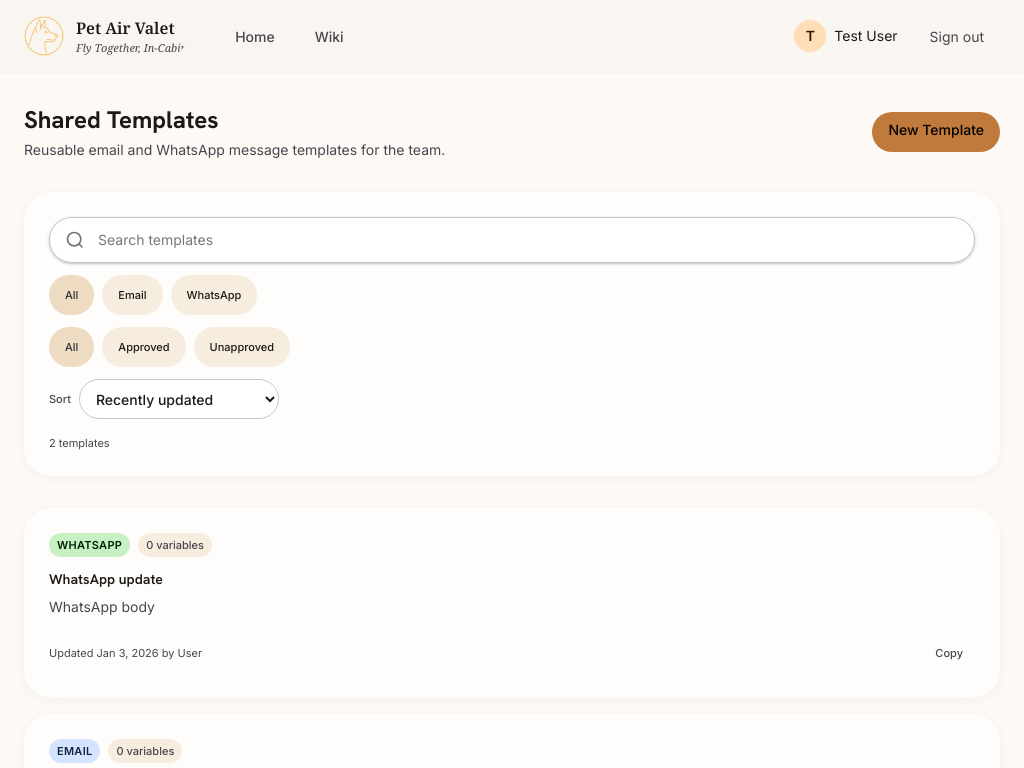
Test case: TemplatesPage › syncs search/filter/sort to URL and can clear filtered-empty state
In the search field with placeholder "Search templates": (512, 240) [49,217,975,263], type "nohits"
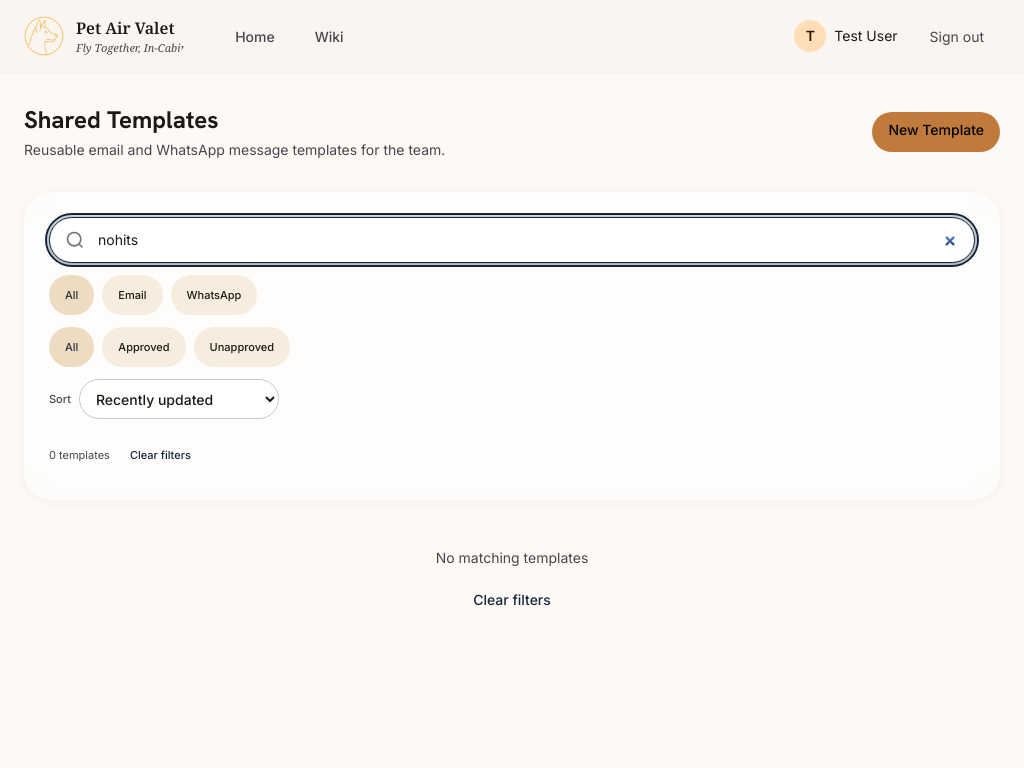
Result: the text "No matching templates" is shown at [436,549,588,566]
Click the button "Email": (132, 295) [102,275,162,315]
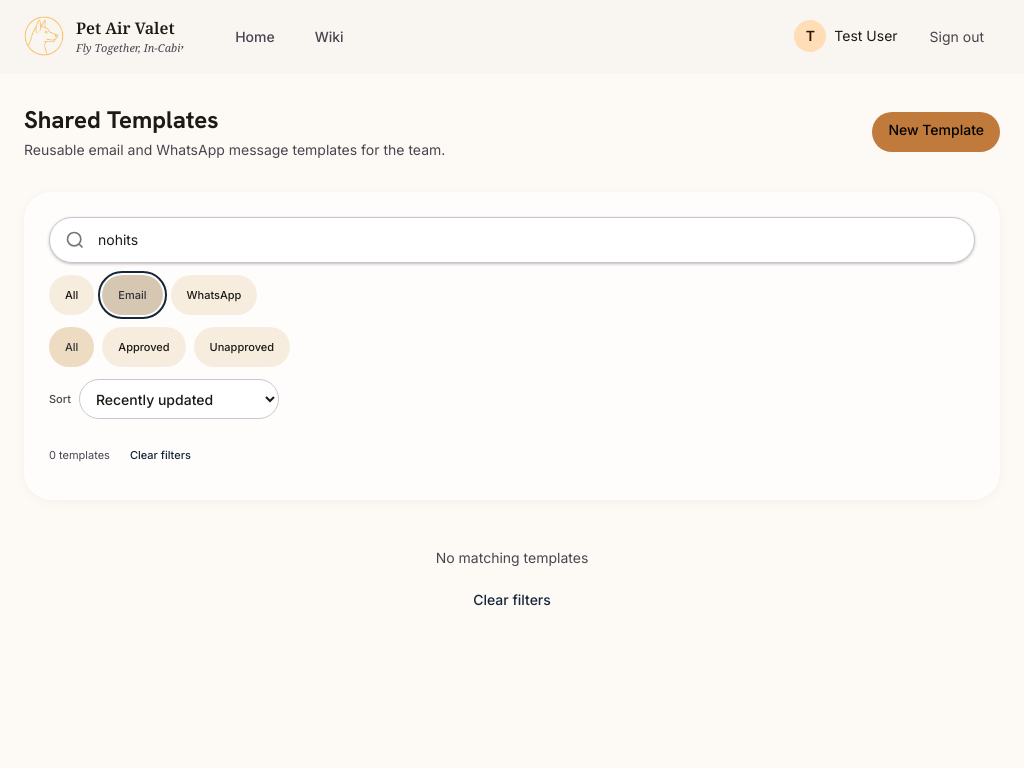
Select "Title Z-A" in the dropdown named "Sort templates": (179, 399) [79,379,279,419]
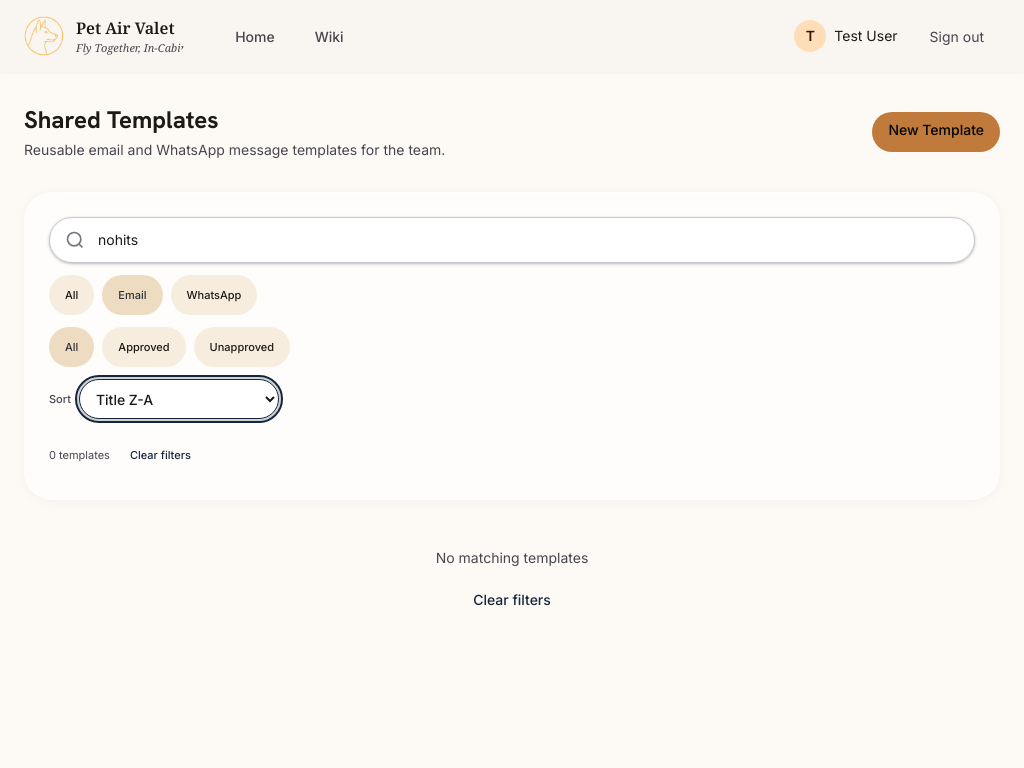
Click the button "Clear filters" next to "0 templates": (160, 455) [122,435,199,475]
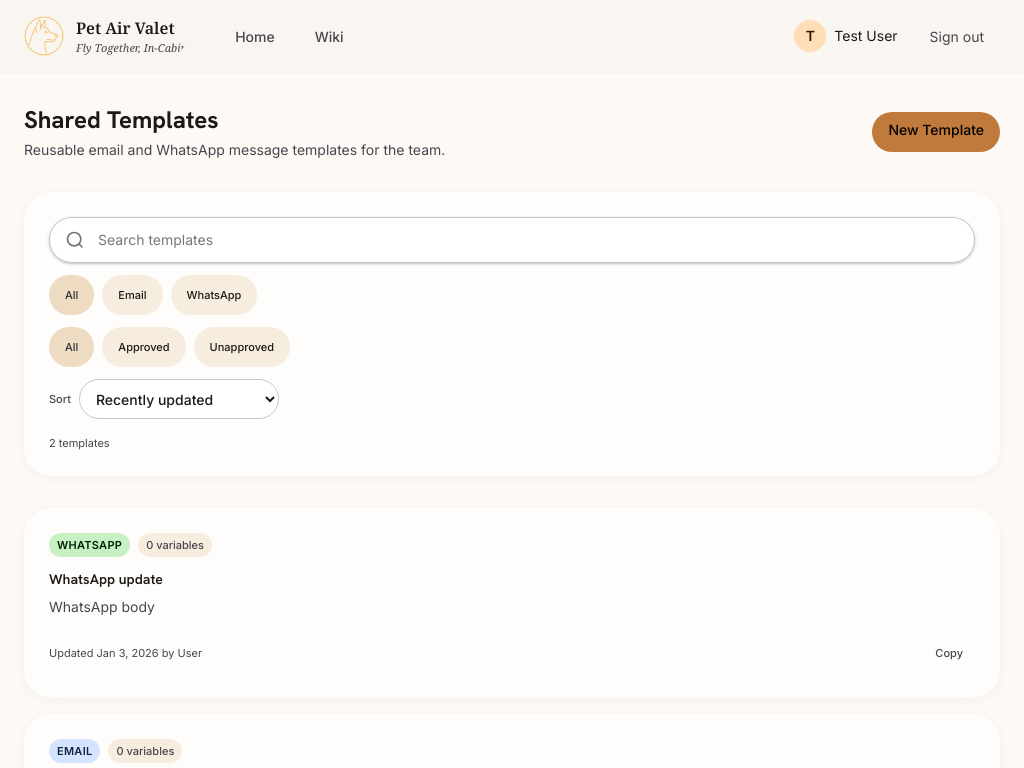
Result: the heading "WhatsApp update" is shown at [49,570,163,588]
